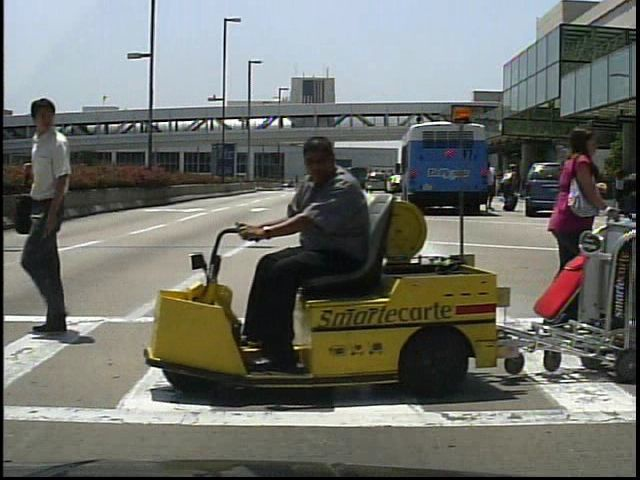person: (239, 134, 379, 373), (23, 100, 108, 336), (540, 121, 604, 354), (579, 180, 634, 326), (480, 162, 500, 216), (580, 163, 601, 214), (502, 164, 521, 218)
